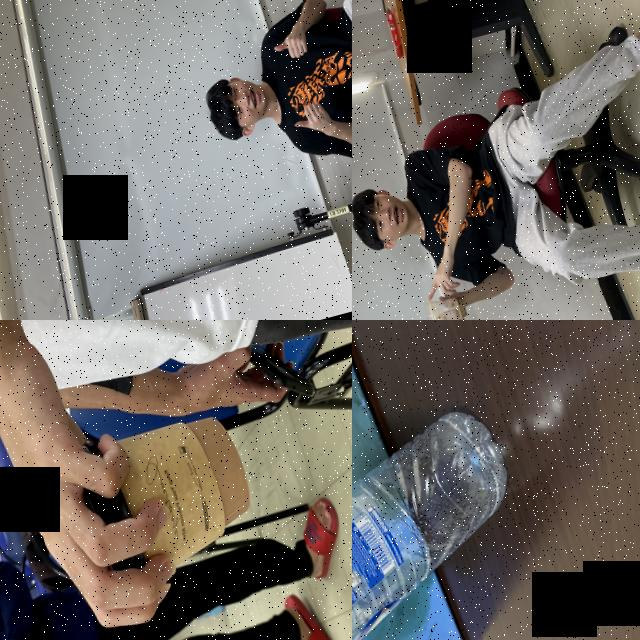bottle: (352, 397, 554, 640)
cup: (56, 394, 278, 620), (424, 287, 470, 320)
